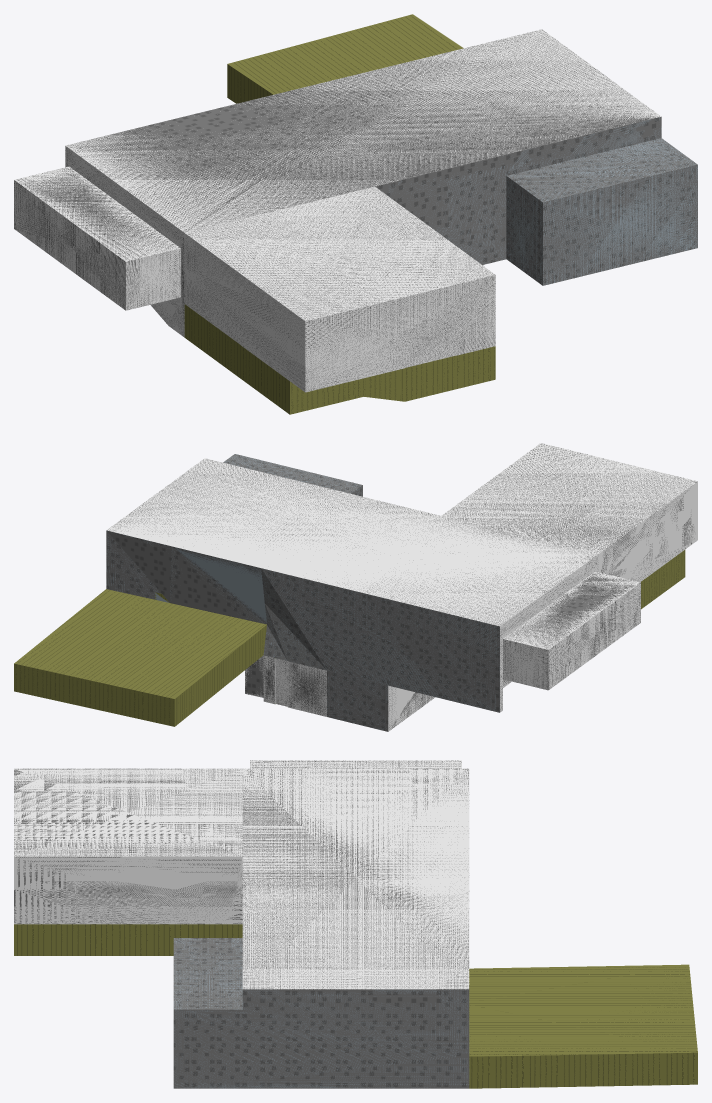
The model's file is map1.fbx.
3 renders of one model, top to bottom at view 1: azimuth 30°, elevation 25°; view 2: azimuth 150°, elevation 25°; view 3: azimuth 270°, elevation 25°, orthographic. The views are drawn at different scales.
Visible parts, largest first — view 1: Model; view 2: Model; view 3: Model.
Boxes of the visible parts, x1=… form: Model: x1=14, y1=14, x2=697, y2=414; Model: x1=14, y1=443, x2=697, y2=731; Model: x1=14, y1=760, x2=697, y2=1088.
Bounding box in the file's own units: 737 × 213 × 865.
